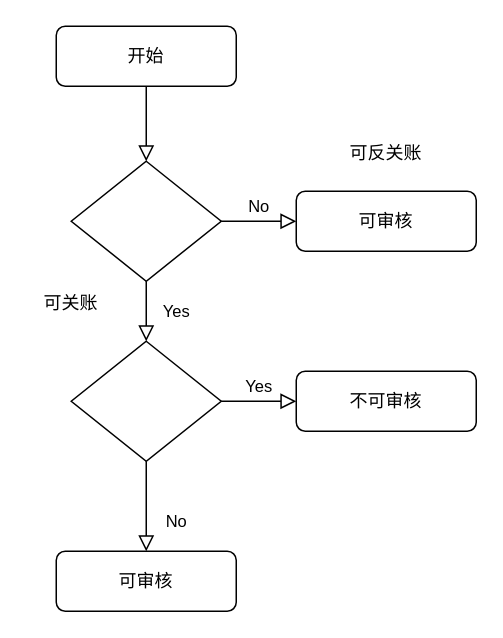
The diagram is 503 pixels wide and 638 high, and some of its shapes have lost their labels. The shapes that lost their labels are listed below. From the top down, each one's box as (x1, y1, x2, y2) in pixels, then its label:
(70, 160, 221, 281): 关账
(70, 340, 221, 461): 审核日期是否在关账日期之后
